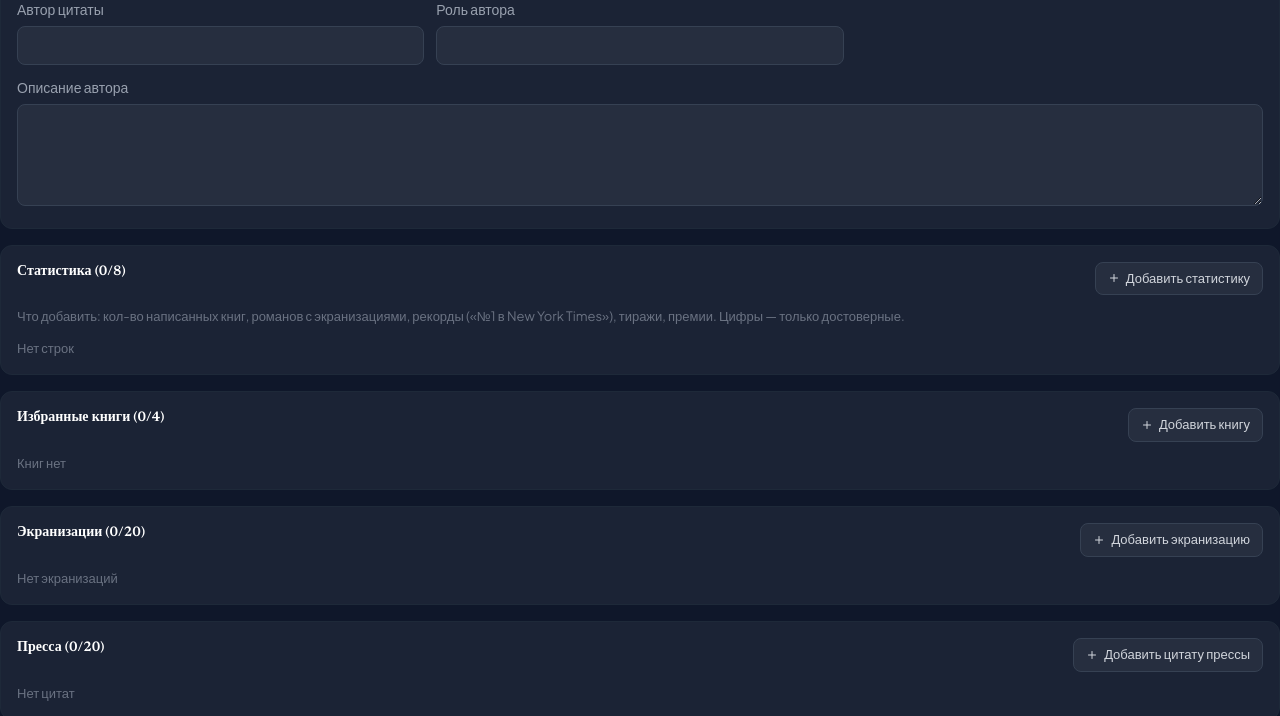
Scenario: AuthorContentEditor — автозаполнение цитаты из лонгрида книги › выбор книги заполняет пустую цитату из лонгрида
(page scrolled)
Click the button "Добавить книгу".
click(1195, 425)  # box x1=1128 y1=408 x2=1263 y2=442
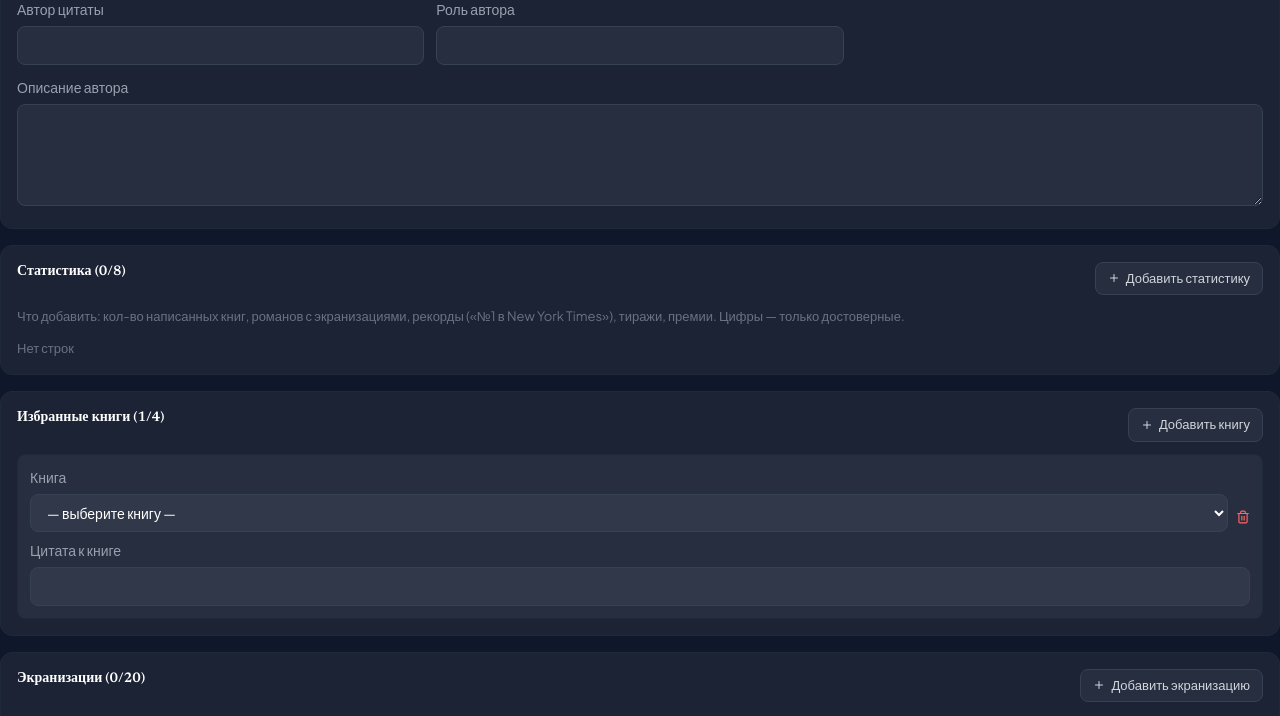
Select "Война и мир" in the dropdown labelled "Книга" at (629, 512), box x1=30 y1=494 x2=1228 y2=532
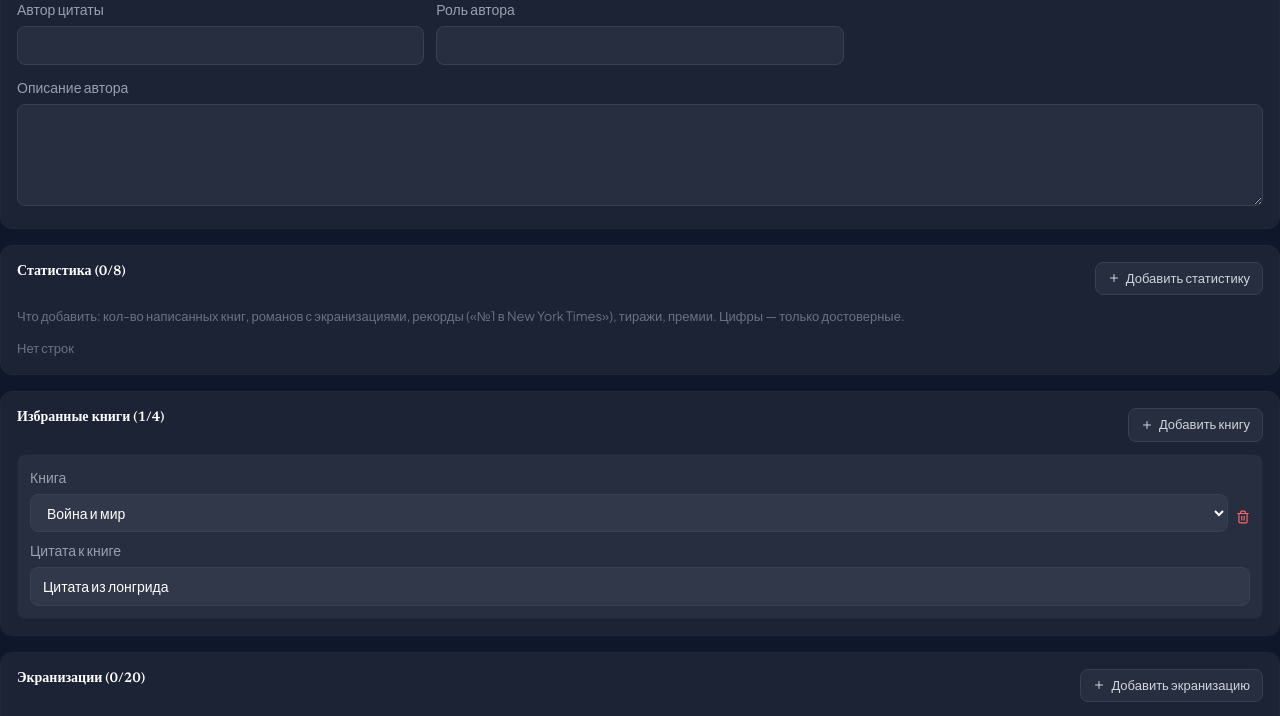
Expected: the field labelled "Цитата к книге" holds "Цитата из лонгрида", x1=30 y1=566 x2=1250 y2=606
